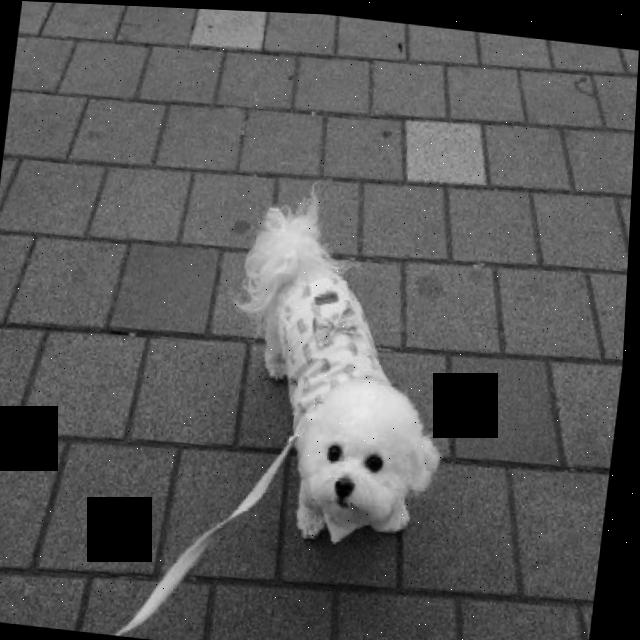cloth: (282, 271, 392, 424)
